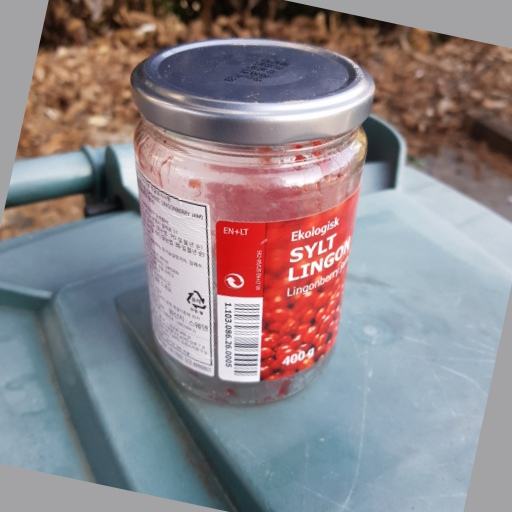Glass_5: (131, 36, 376, 405)
